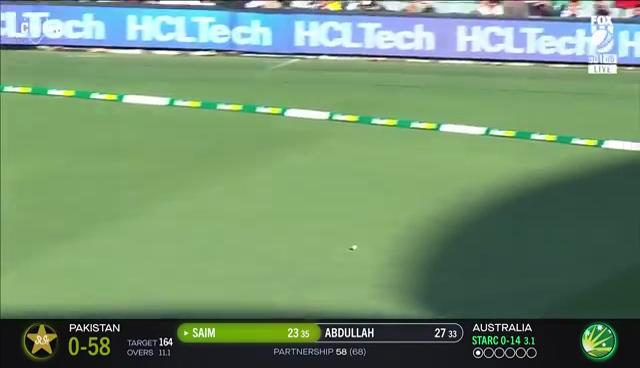ball: (342, 237, 365, 259)
